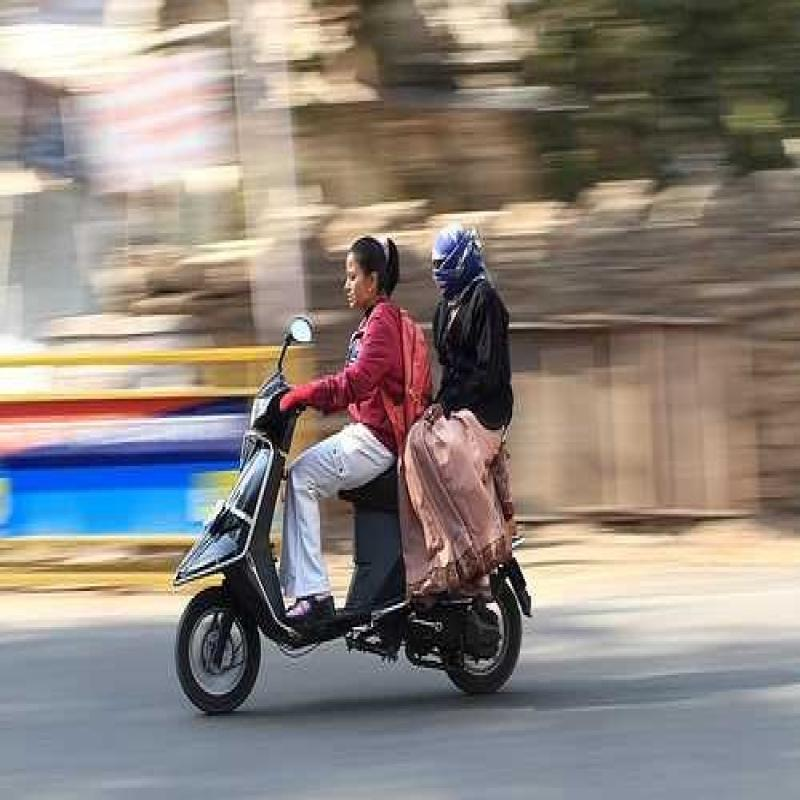bike: (156, 313, 510, 709)
